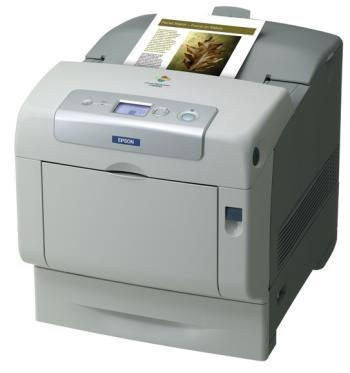printer: (16, 7, 337, 360)
